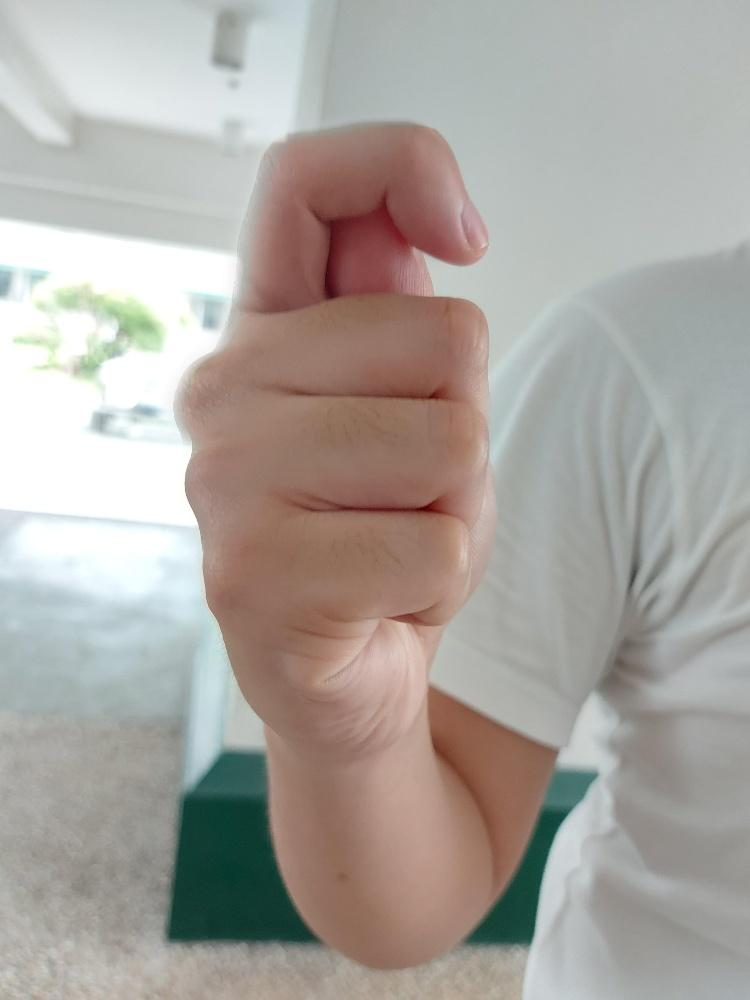t: (176, 118, 503, 766)
